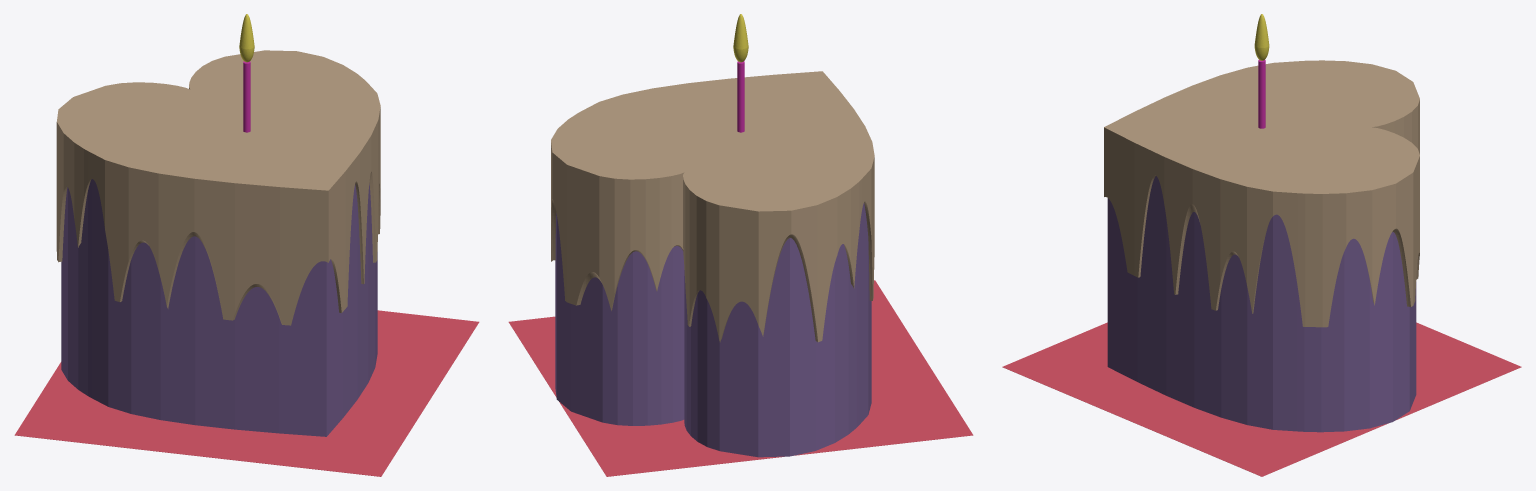
Rendered from ube.glb.
3 renders of one model, left to right at view 1: azimuth 30°, elevation 25°; view 2: azimuth 150°, elevation 25°; view 3: azimuth 270°, elevation 25°, orthographic. The views are drawn at different scales.
Visible parts, largest first — view 1: Mesh_Mesh_head_geo.001_lambert2SG.001; view 2: Mesh_Mesh_head_geo.001_lambert2SG.001; view 3: Mesh_Mesh_head_geo.001_lambert2SG.001.
Boxes of the visible parts, x1=… form: Mesh_Mesh_head_geo.001_lambert2SG.001: x1=14, y1=14, x2=479, y2=476; Mesh_Mesh_head_geo.001_lambert2SG.001: x1=508, y1=14, x2=973, y2=476; Mesh_Mesh_head_geo.001_lambert2SG.001: x1=1002, y1=14, x2=1521, y2=476.
Bounding box in the file's own units: 0.0354 × 0.0265 × 0.0354.
